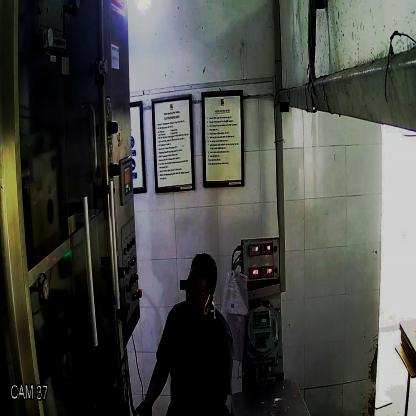goggles: (181, 275, 218, 307)
